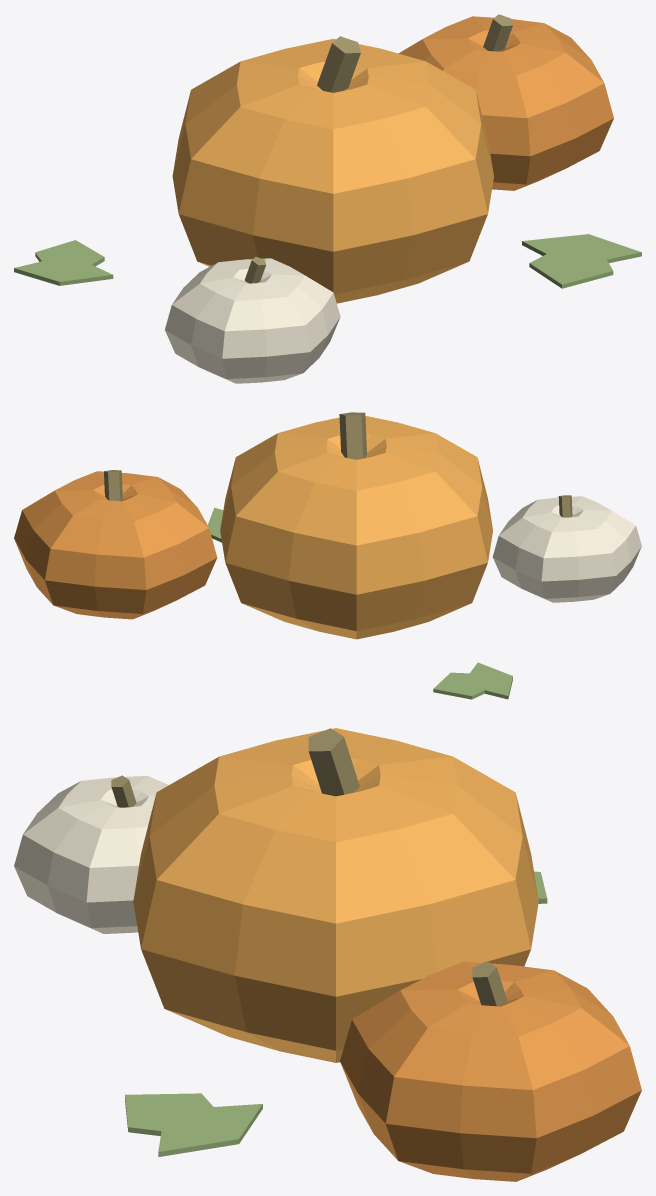
File: Pumpkin_Trio.glb
3 views of the same model, one above another, from view 1: azimuth 30°, elevation 25°; view 2: azimuth 150°, elevation 25°; view 3: azimuth 270°, elevation 25° (orthographic). The views are drawn at different scales.
Visible parts, largest first — view 1: Pumpkin_Trio; view 2: Pumpkin_Trio; view 3: Pumpkin_Trio.
Part boxes in pixels (x1,y1,x2,y2): Pumpkin_Trio: [14, 14, 641, 383]; Pumpkin_Trio: [14, 412, 641, 699]; Pumpkin_Trio: [14, 728, 641, 1181].
Size of the model in its own units: 1.19 by 0.4393 by 0.892.
